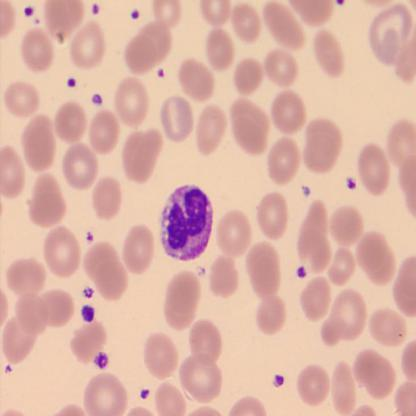Segmented neutrophil: (157, 180, 215, 263)
